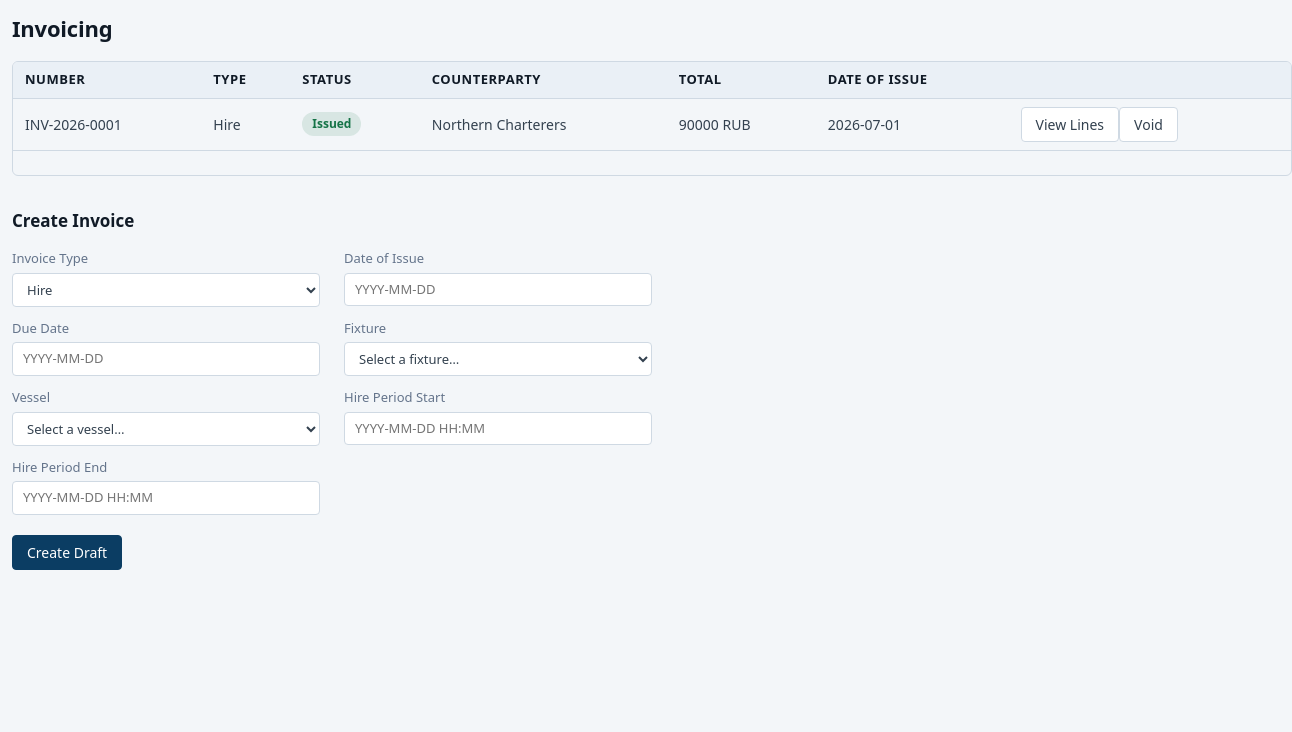
Test: InvoicingPage › lets the operator void an issued invoice after confirming
Expected: the text "INV-2026-0001" is shown, [13, 98, 201, 150]
Click the button "Void".
click(1148, 124)  # box [1119, 106, 1178, 142]
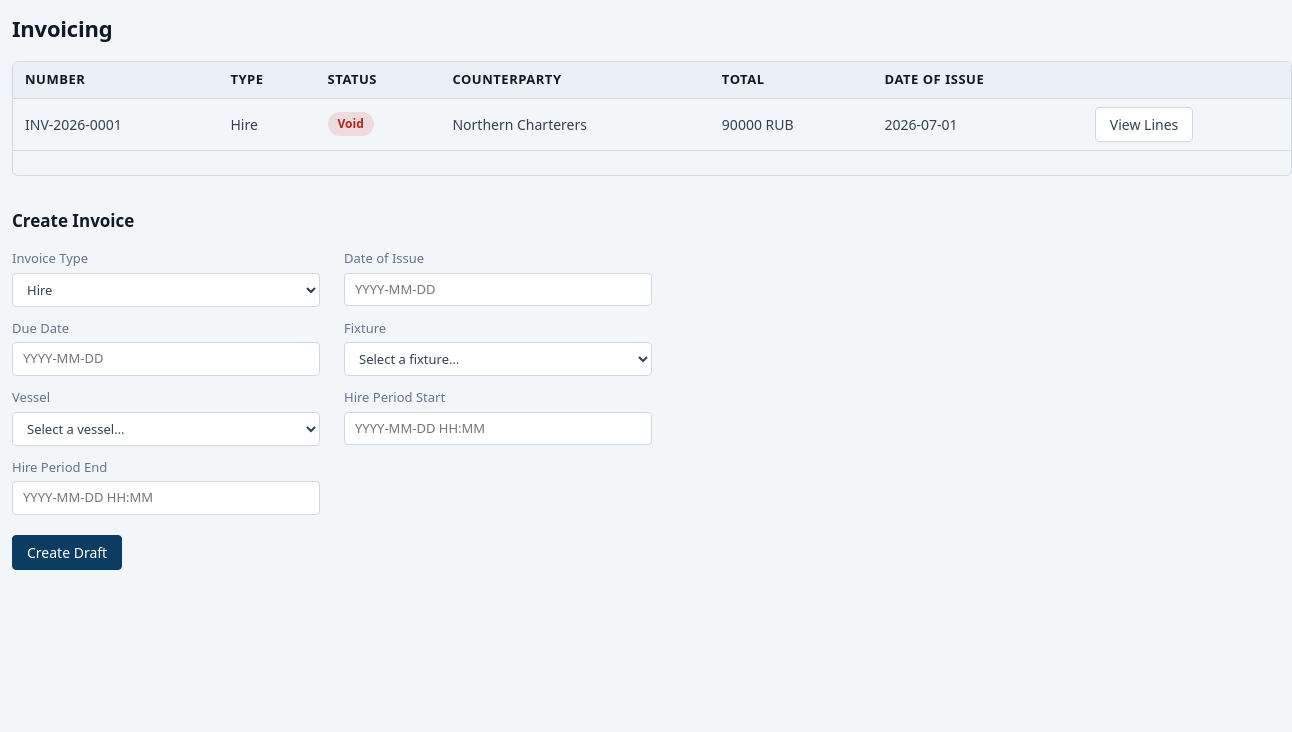
Now the text "Void" is shown, box [328, 112, 374, 136]
